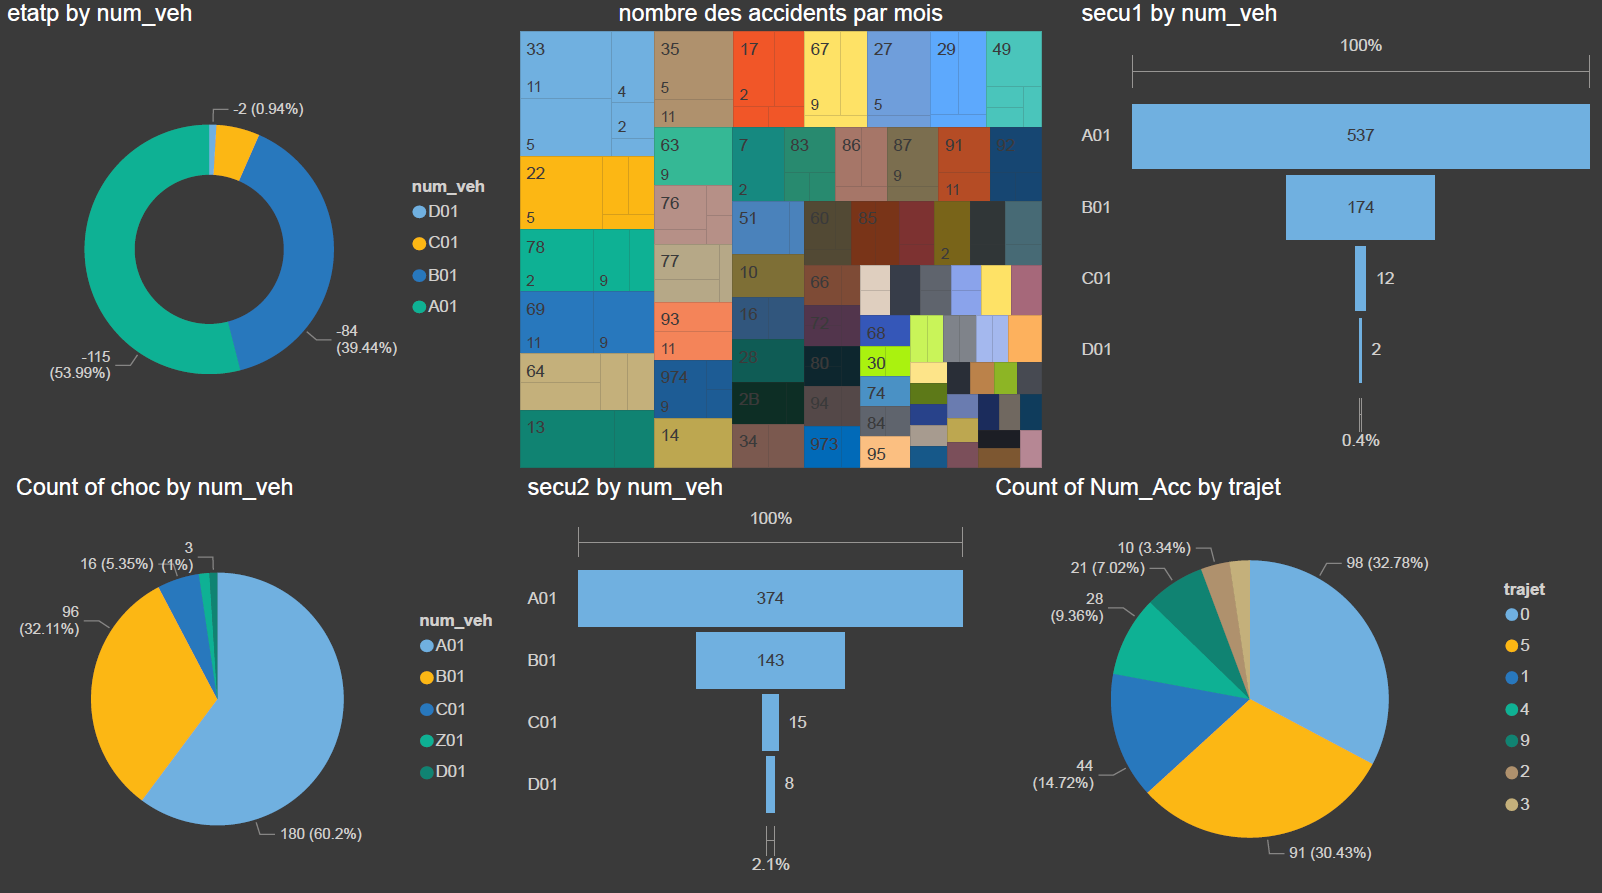

What the dashboard file says about the page in this screenshot:
{"tool":"powerbi","page":{"name":"Page 2","canvas":[1280,720],"ordinal":1},"visuals":[{"type":"donutChart","fields":{"Category":["usagers-2019.num_veh"],"Y":["Sum(usagers-2019.etatp)"]},"box":[0,0,410.5,379.3],"z":0},{"type":"funnel","fields":{"Category":["usagers-2019.num_veh"],"Y":["Sum(usagers-2019.secu2)"]},"box":[416.3,379.3,362.8,327.8],"z":1000},{"type":"funnel","fields":{"Category":["usagers-2019.num_veh"],"Y":["Sum(usagers-2019.secu1)"]},"box":[858.8,0,421.2,368.6],"z":2000},{"type":"pieChart","fields":{"Y":["CountNonNull(vehicules-2019.choc)"],"Series":["vehicules-2019.num_veh"]},"box":[6.8,379.3,409.5,340.4],"z":3000},{"type":"pieChart","fields":{"Series":["usagers-2019.trajet"],"Y":["CountNonNull(usagers-2019.Num_Acc)"]},"box":[789.8,379.3,468.8,340.4],"z":4000},{"type":"treemap","title":"nombre des accidents par mois","fields":{"Group":["caracteristiques-2019.dep"],"Values":["CountNonNull(caracteristiques-2019.Num_Acc)"],"Details":["caracteristiques-2019.mois"]},"box":[410.5,0,427,379.3],"z":5000}]}

Visuals, with their boxes in screenshot pixels (x1, y1, x2, y2), scaled from the page's 1280x720 canvas onto the 1602x893 screenshot:
donutChart - usagers-2019.num_veh x Sum(usagers-2019.etatp): pyautogui.locateOnScreen(0, 0, 514, 470)
funnel - usagers-2019.num_veh x Sum(usagers-2019.secu2): pyautogui.locateOnScreen(521, 470, 975, 877)
funnel - usagers-2019.num_veh x Sum(usagers-2019.secu1): pyautogui.locateOnScreen(1075, 0, 1601, 457)
pieChart - CountNonNull(vehicules-2019.choc) x vehicules-2019.num_veh: pyautogui.locateOnScreen(9, 470, 521, 892)
pieChart - usagers-2019.trajet x CountNonNull(usagers-2019.Num_Acc): pyautogui.locateOnScreen(988, 470, 1575, 892)
"nombre des accidents par mois" treemap: pyautogui.locateOnScreen(514, 0, 1048, 470)
